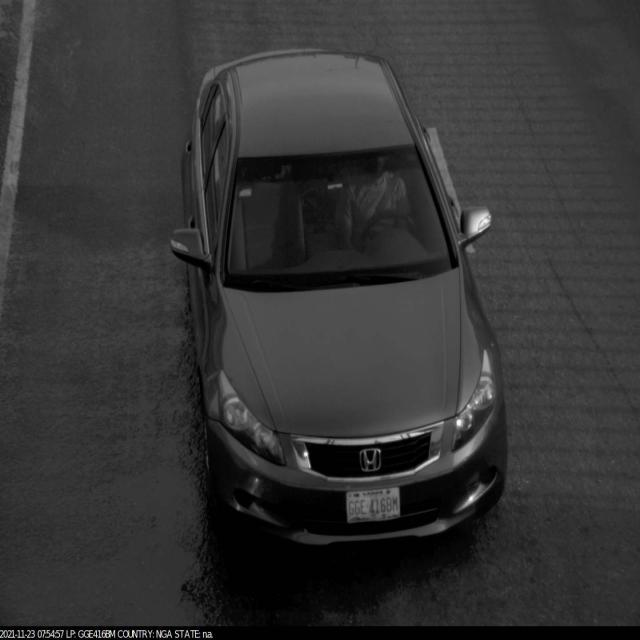windshield: (208, 141, 464, 303)
